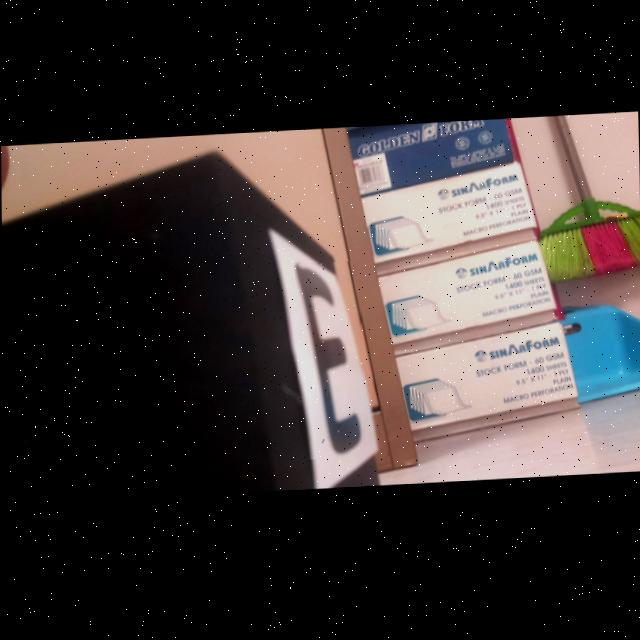E: (294, 266, 363, 460)
